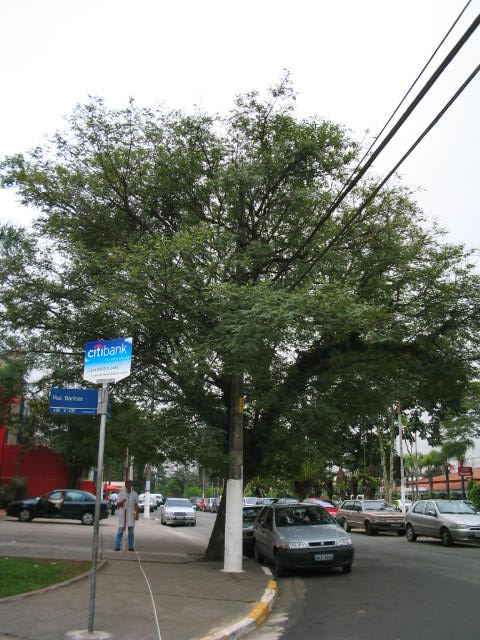crown: (4, 68, 479, 442)
stem: (198, 445, 265, 562)
stick: (116, 426, 135, 553)
tree: (1, 67, 477, 564)
